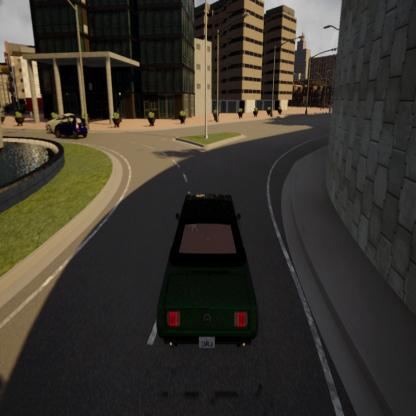Cars: (148, 181, 261, 363), (43, 103, 82, 137), (52, 113, 89, 141)
